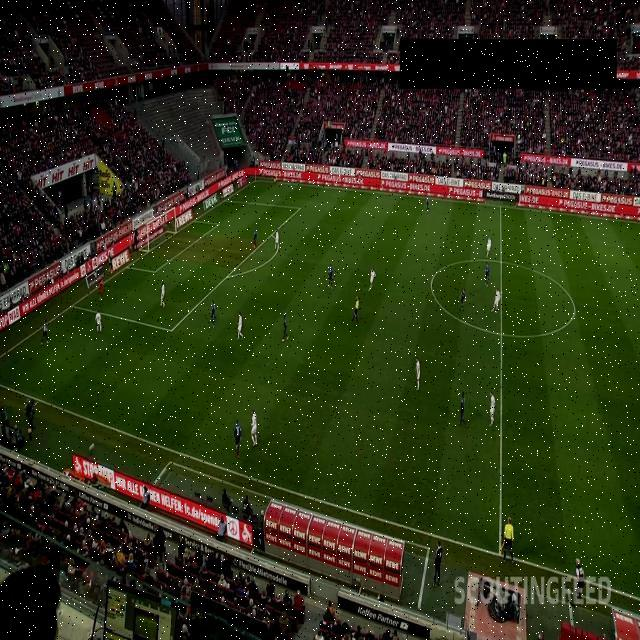Corner: (251, 162, 260, 186)
GoalKeeper: (98, 276, 104, 300)
Referee: (502, 516, 514, 564), (352, 294, 360, 324), (272, 167, 278, 185)
TEAM 1: (250, 408, 258, 448), (488, 389, 496, 426), (491, 288, 501, 314), (236, 310, 244, 340), (415, 356, 421, 390), (368, 267, 376, 292), (160, 281, 166, 307), (95, 310, 102, 332), (274, 228, 280, 252), (486, 236, 492, 258)
TEAM 2: (234, 418, 242, 459), (459, 390, 467, 428), (40, 318, 50, 345), (281, 313, 289, 342), (210, 300, 216, 330), (328, 263, 334, 289), (459, 288, 466, 310), (252, 227, 258, 249), (484, 264, 490, 286), (425, 197, 429, 213)
